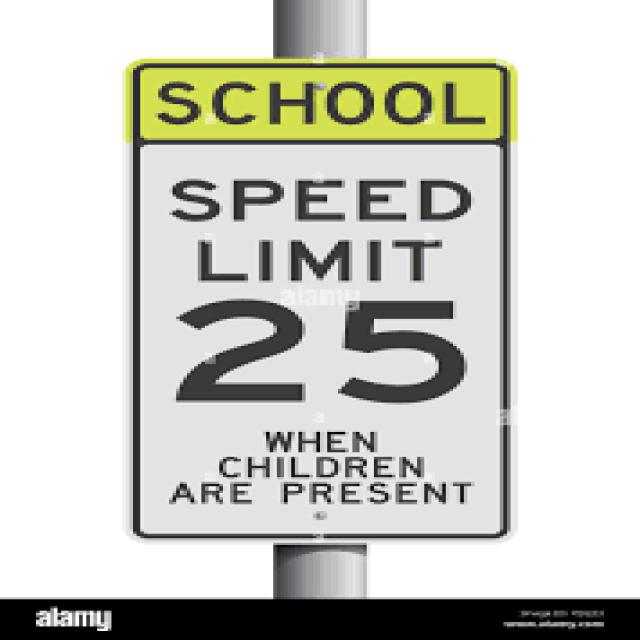speedLimit25: (142, 138, 505, 545)
